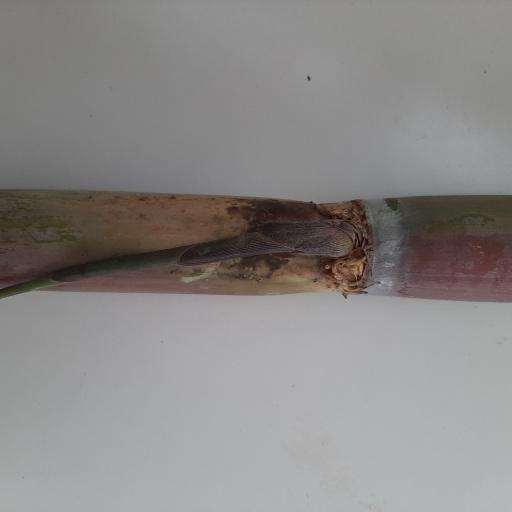Sprouted_Bud: (256, 219, 362, 259)
